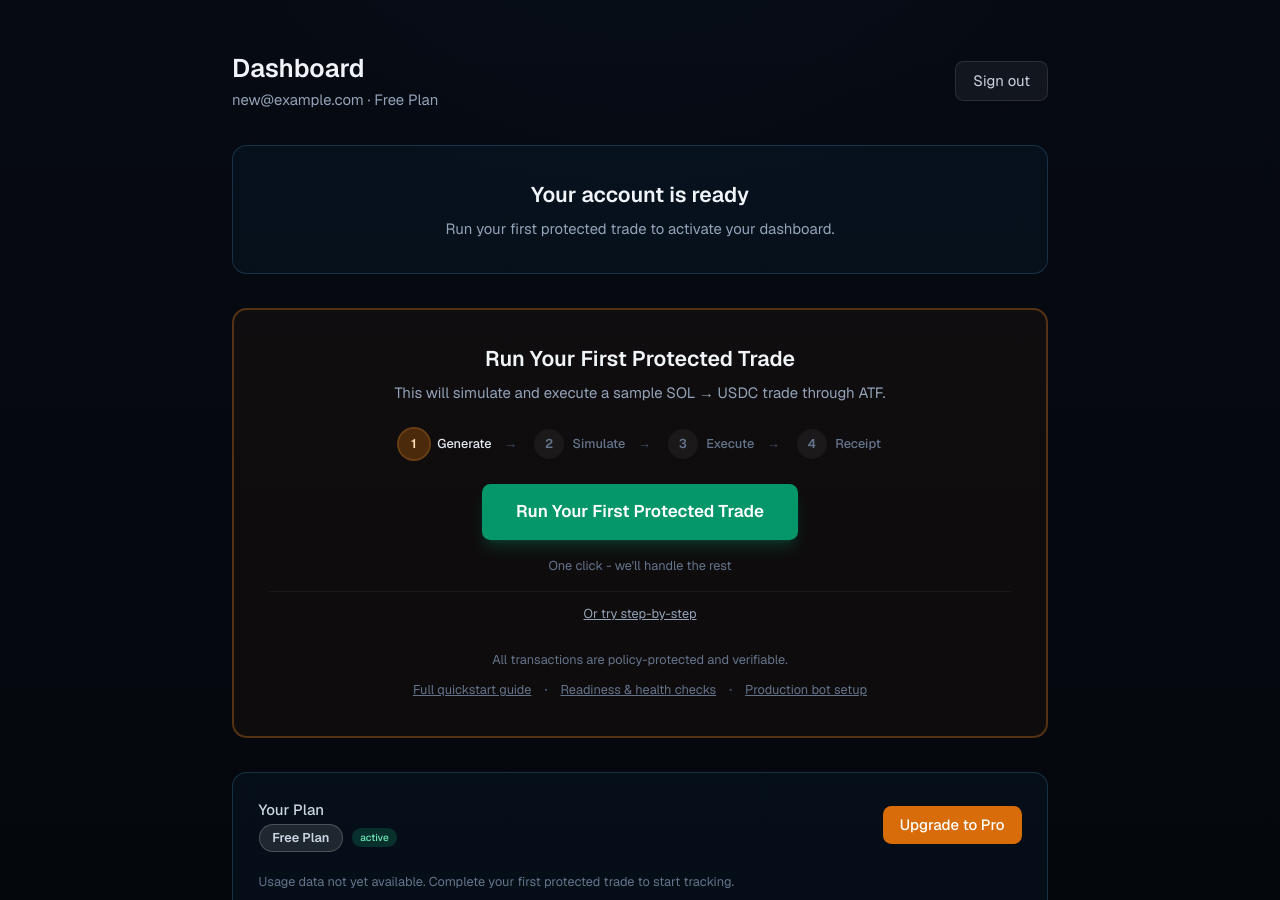
First-use UX — error mapping › shows classified unavailable error
This screenshot has width=1280, height=900.
Click the button with test id "generate-btn" at (640, 614), box [584, 605, 696, 622]
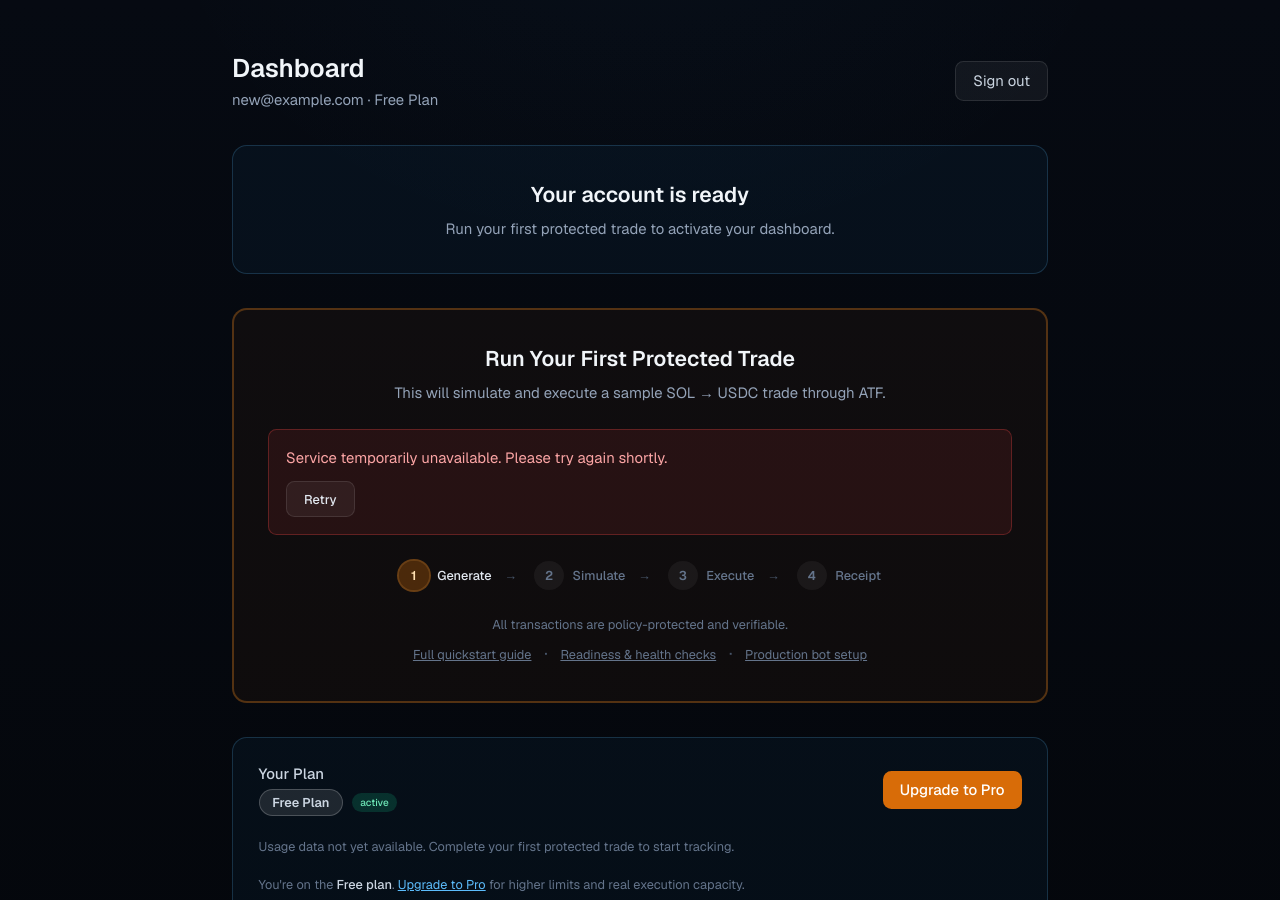
Now the text "Service temporarily unavailable. Please try again shortly." is shown, box [286, 448, 667, 467]
